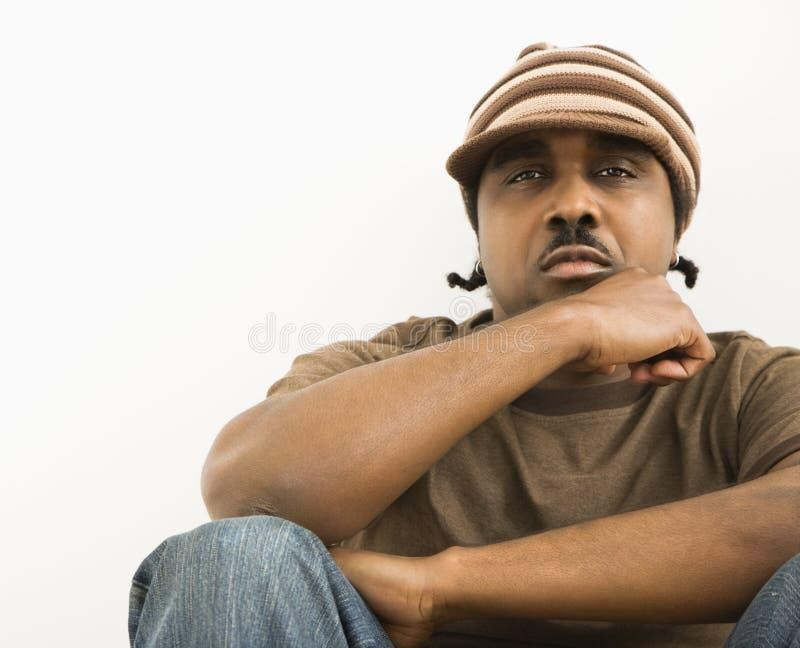cap: (442, 30, 752, 228)
